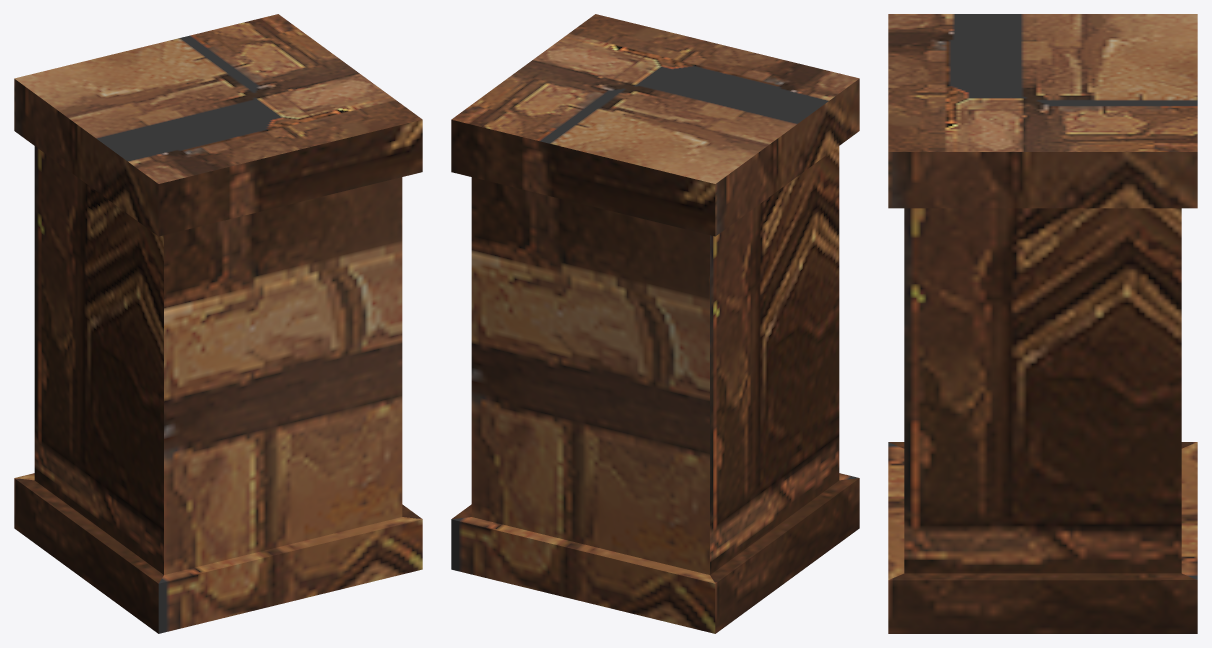
Rendered from ZhuZi07.FBX.
3 views of the same model, side by side, from view 1: azimuth 30°, elevation 25°; view 2: azimuth 150°, elevation 25°; view 3: azimuth 270°, elevation 25° (orthographic). The views are drawn at different scales.
Visible parts, largest first — view 1: ZhuZi07; view 2: ZhuZi07; view 3: ZhuZi07.
Boxes of the visible parts, x1,y1,x2,y2 form: ZhuZi07: [14, 14, 422, 633]; ZhuZi07: [451, 14, 859, 633]; ZhuZi07: [888, 14, 1197, 633].
Bounding box in the file's own units: 37.23 × 60.56 × 35.24.
